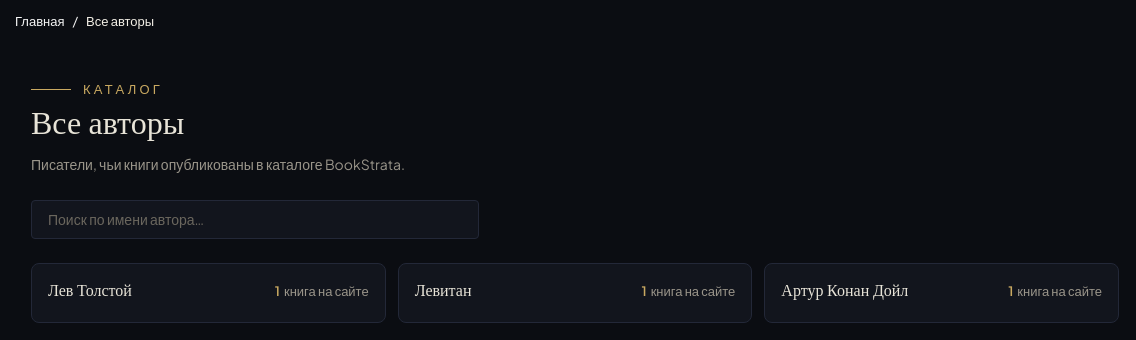
Test: AuthorsPage › поиск фильтрует список на клиенте
Check: the text "Лев Толстой" is shown, box 48,280 -> 132,306
Type "Лев" into the search field. click: (255, 220)
box: 31,200 -> 479,239
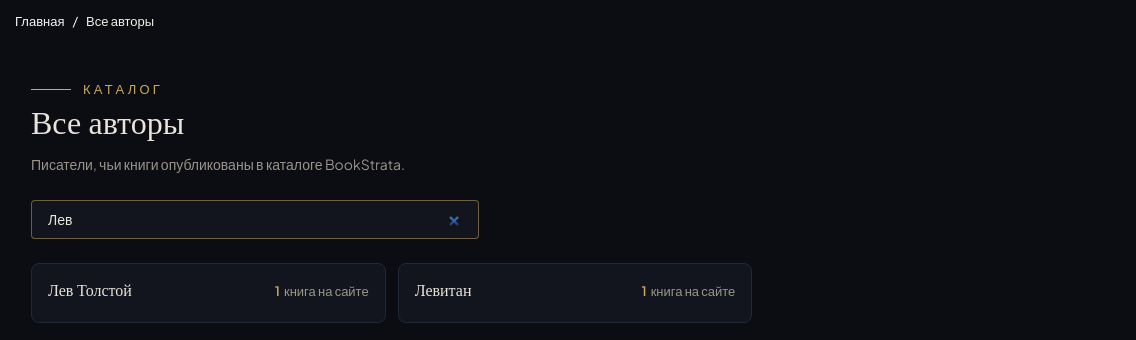
Check: the text "Лев Толстой" is shown, box 48,280 -> 132,306
Check: the link "Артур Конан Дойл" is gone
